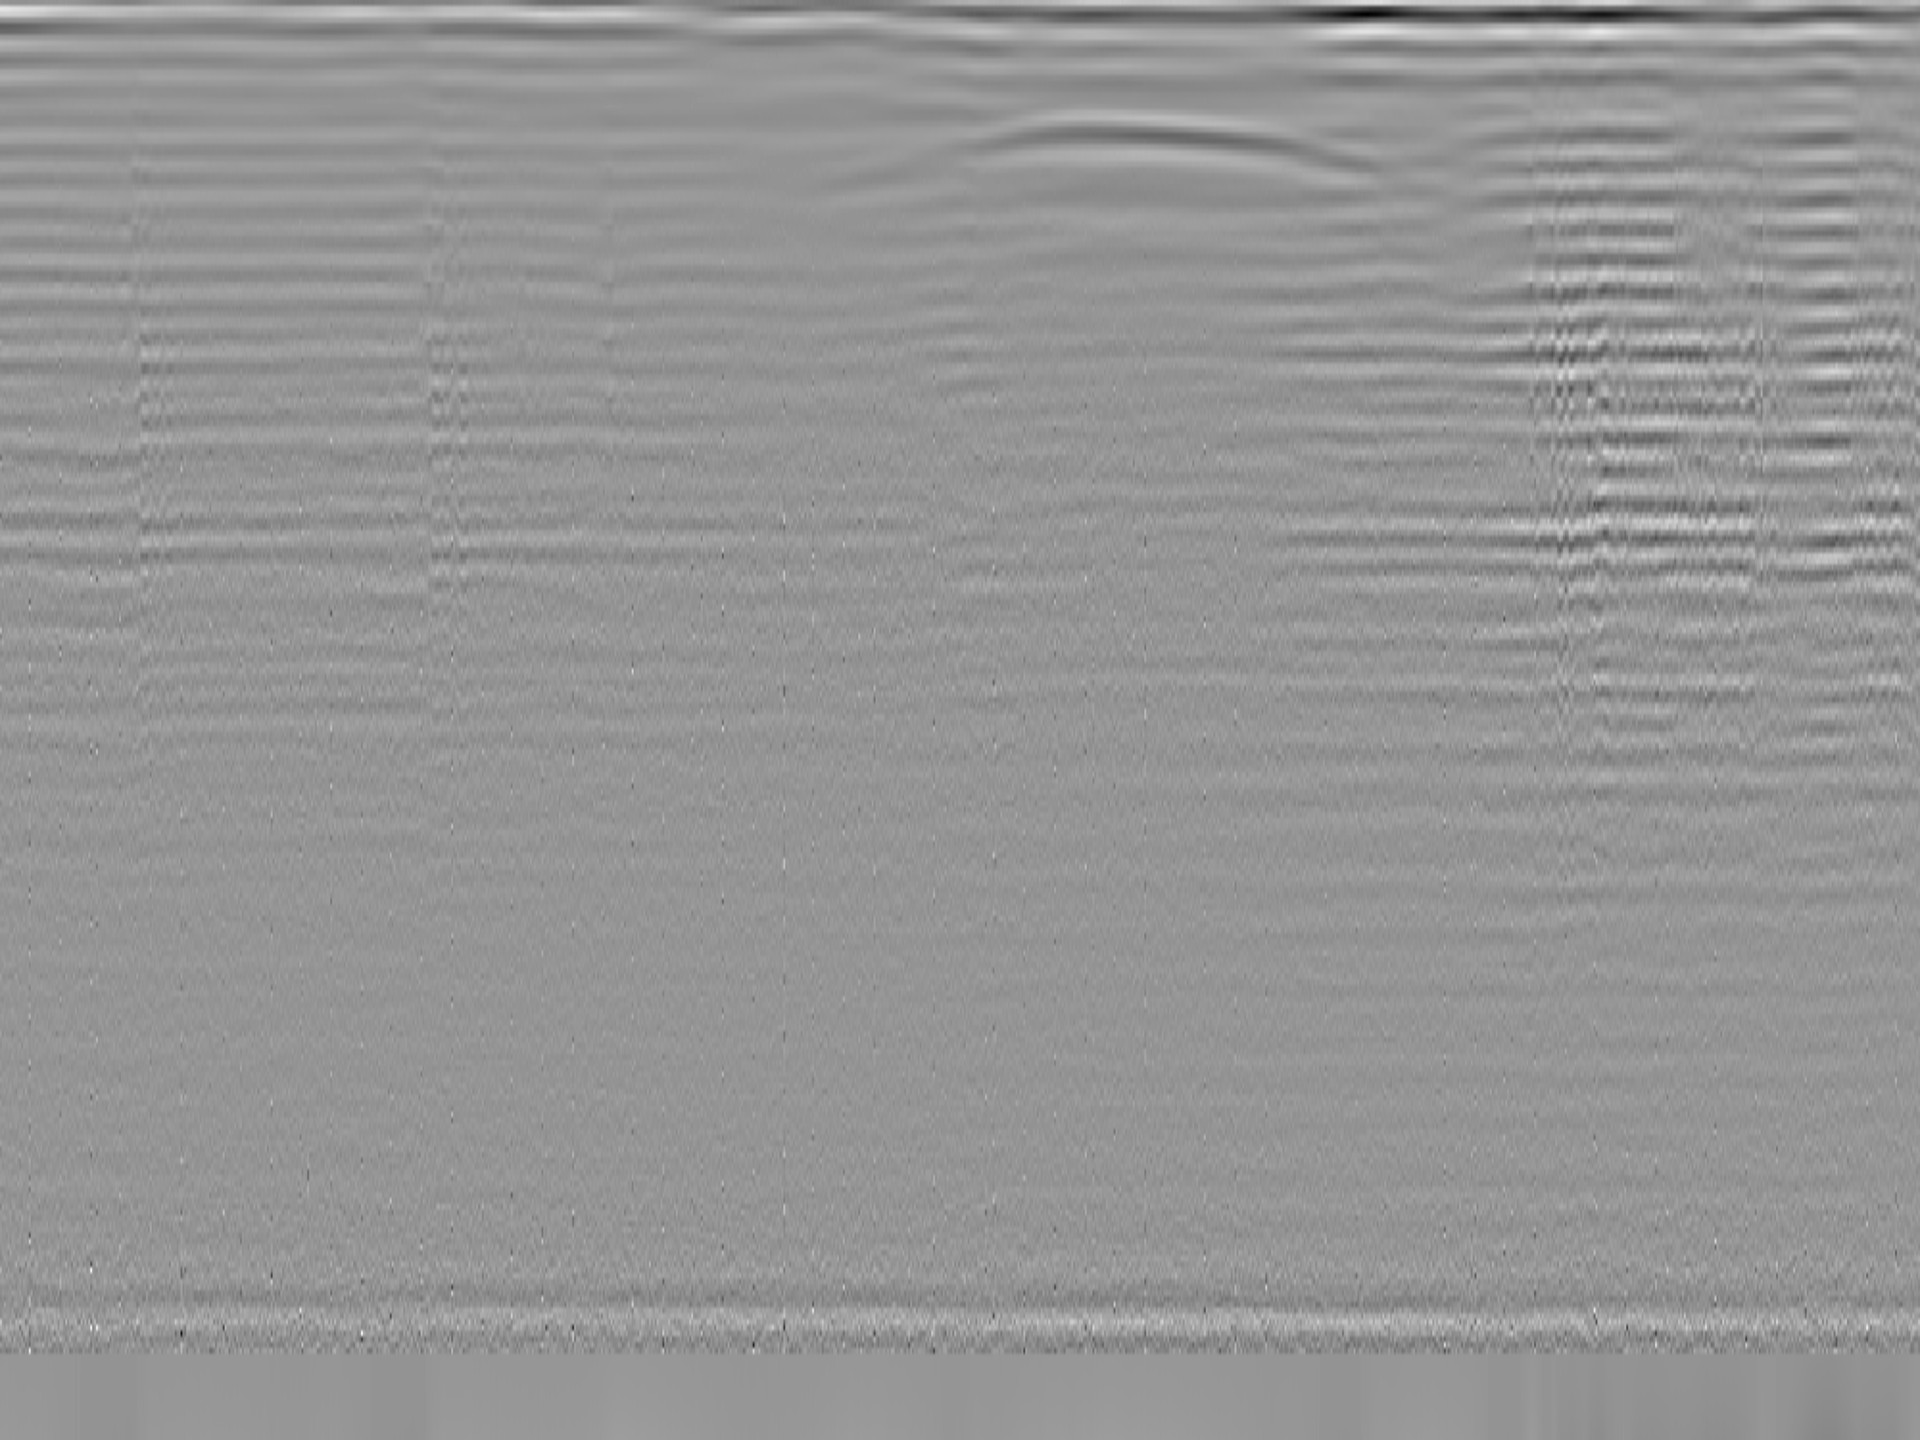Tunnel: (797, 109, 1438, 201)
